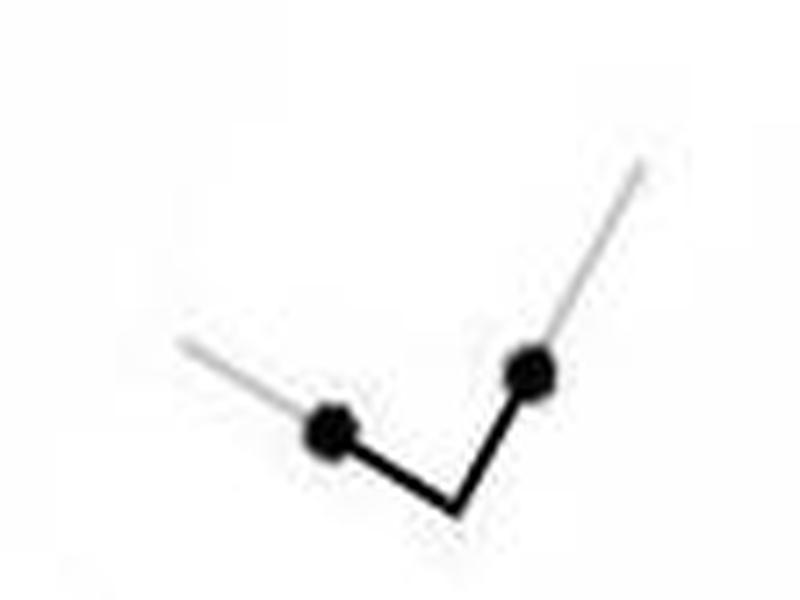butt_weld_90: (153, 271, 638, 539)
